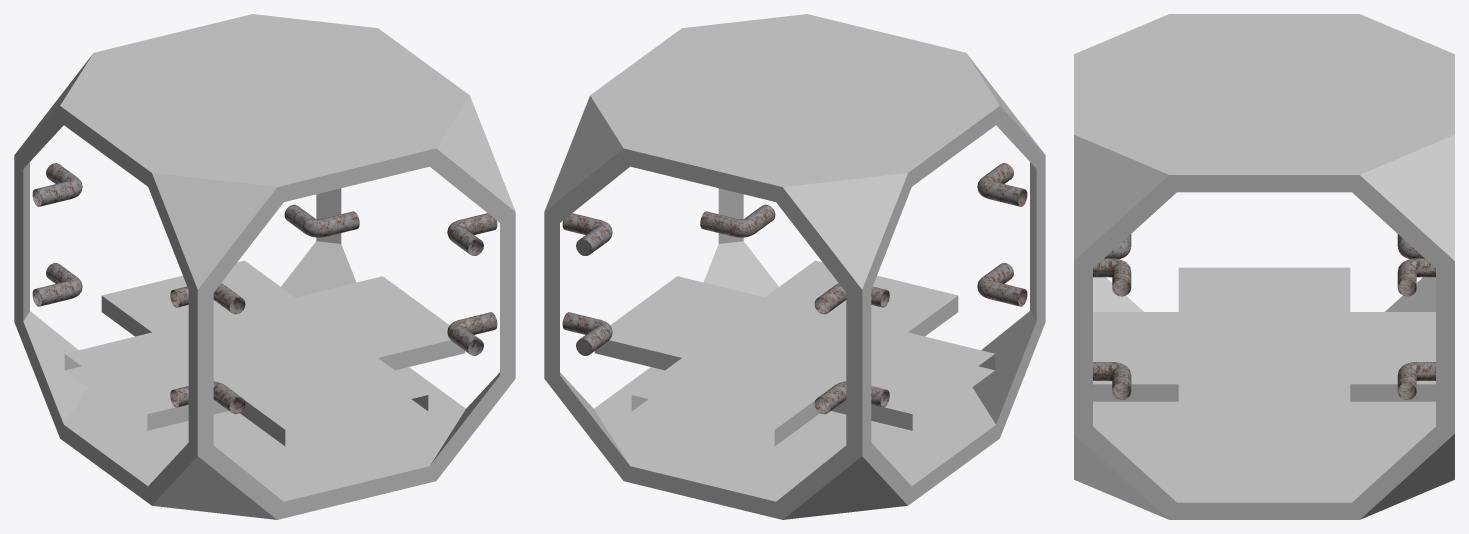
Rendered from LabTunnel_4Way.fbx.
The picture shows the model from 3 angles, left to right: view 1: azimuth 30°, elevation 25°; view 2: azimuth 150°, elevation 25°; view 3: azimuth 270°, elevation 25°; orthographic projection. The views are drawn at different scales.
Parts seen in each view (by area): view 1: Ceiling.002, Platform_X, Floor.021, Corner.004, Corner.001, Corner.005, Corner.006, Pipe_Curved.007, Pipe_Curved.006, Pipe_Curved.001, Pipe_Curved.005; view 2: Ceiling.002, Platform_X, Floor.021, Corner.005, Corner.006, Corner.004, Corner.001, Pipe_Curved.001, Pipe_Curved.005, Pipe_Curved.007, Pipe_Curved.006; view 3: Ceiling.002, Platform_X, Floor.021, Corner.001, Corner.006, Pipe_Curved.005, Pipe_Curved.006, Corner.005, Corner.004.
Boxes of the visible parts, x1,y1,x2,y2 form: Ceiling.002: (60, 14, 469, 201); Platform_X: (64, 260, 465, 446); Floor.021: (60, 367, 465, 519); Corner.004: (148, 173, 283, 519); Corner.001: (430, 96, 515, 480); Corner.005: (14, 54, 92, 437); Corner.006: (281, 188, 356, 297); Pipe_Curved.007: (32, 163, 82, 306); Pipe_Curved.006: (447, 213, 497, 355); Pipe_Curved.001: (170, 283, 245, 414); Pipe_Curved.005: (284, 204, 359, 237); Ceiling.002: (590, 14, 999, 201); Platform_X: (594, 260, 995, 446); Floor.021: (594, 367, 999, 519); Corner.005: (776, 173, 911, 519); Corner.006: (544, 96, 629, 480); Corner.004: (967, 54, 1045, 437); Corner.001: (703, 188, 778, 297); Pipe_Curved.001: (977, 163, 1027, 306); Pipe_Curved.005: (562, 213, 612, 355); Pipe_Curved.007: (814, 283, 889, 414); Pipe_Curved.006: (700, 204, 775, 237); Ceiling.002: (1074, 14, 1454, 192); Platform_X: (1093, 267, 1435, 445); Floor.021: (1093, 401, 1435, 519); Corner.001: (1074, 135, 1176, 519); Corner.006: (1352, 135, 1454, 519); Pipe_Curved.005: (1397, 258, 1435, 399); Pipe_Curved.006: (1093, 258, 1131, 399); Corner.005: (1385, 277, 1435, 311); Corner.004: (1093, 277, 1143, 311).
Bounding box in the file's own units: 500 × 500 × 500.
